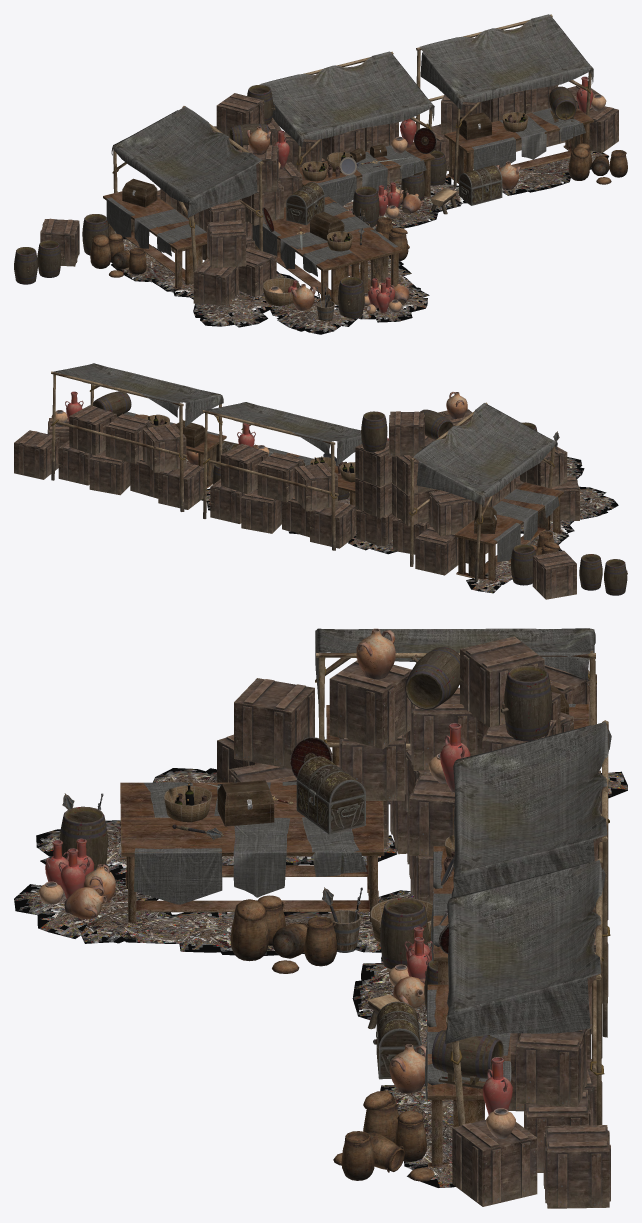
File: SHO_Scavengers-transformed.glb
3 views of the same model, one above another, from view 1: azimuth 30°, elevation 25°; view 2: azimuth 150°, elevation 25°; view 3: azimuth 270°, elevation 25° (orthographic). The views are drawn at different scales.
Parts seen in each view (by area): view 1: default; view 2: default; view 3: default.
Boxes of the visible parts, x1,y1,x2,y2 form: default: (14,14,627,334); default: (14,363,627,599); default: (14,628,627,1208).
Size of the model in its own units: 12.39 by 2.59 by 6.1.
21 materials, 21 textured.
